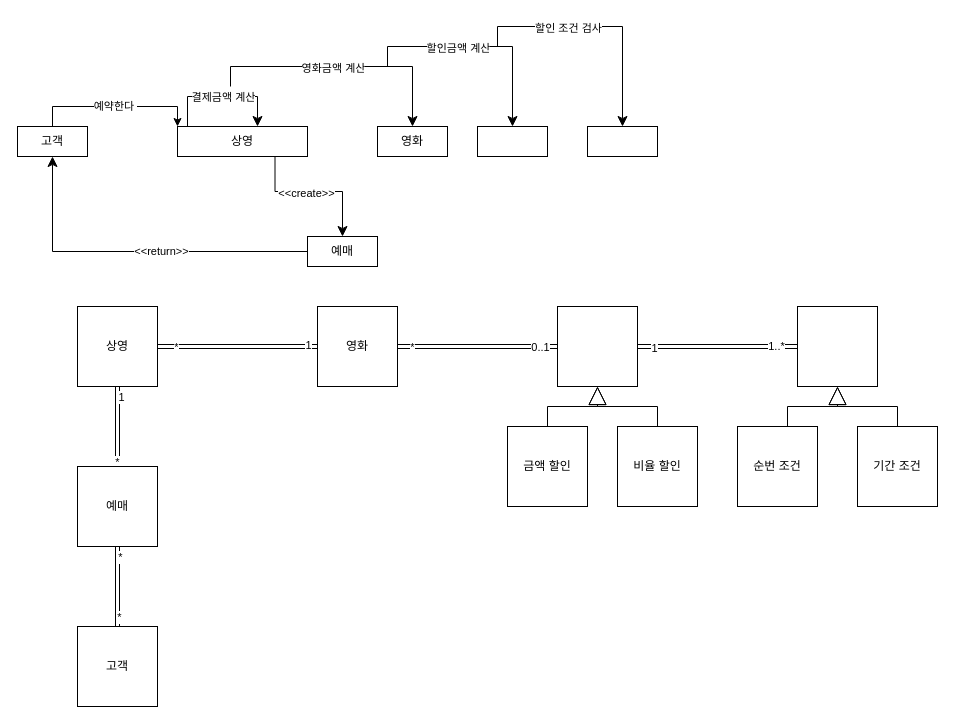
Some shapes in this 955 by 724 pixel diagram are drawn without their labels. The shapes that lost their labels are listed below. From the top down, each one's centre as x and y in pixels, then its label:
At point 512,141: "할인정책".
At point 622,141: "할인조건".
At point 597,346: "할인 정책".
At point 837,346: "할인 조건".
